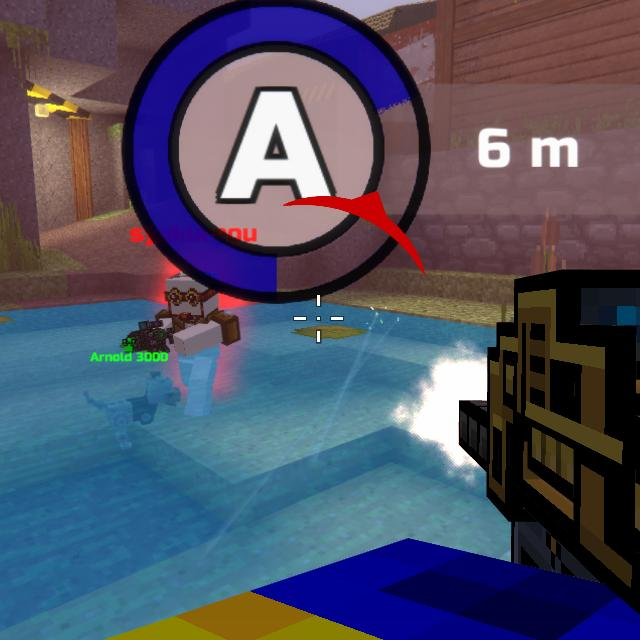Enemy: (155, 271, 241, 416)
